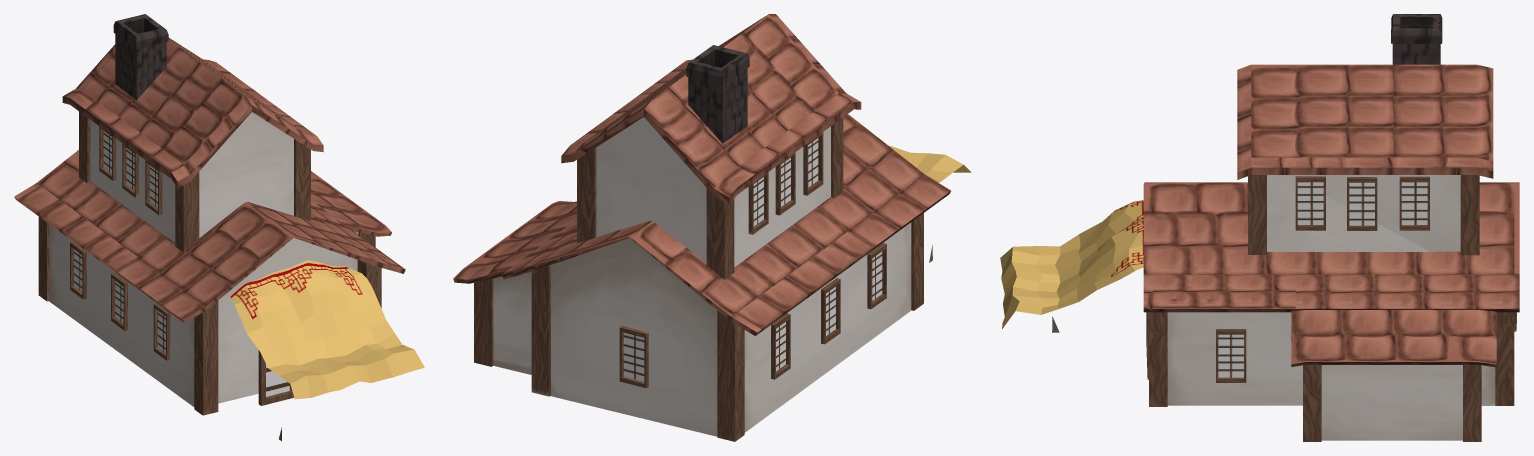
File: Haus_fixed.fbx
The picture shows the model from 3 angles, left to right: view 1: azimuth 30°, elevation 25°; view 2: azimuth 150°, elevation 25°; view 3: azimuth 270°, elevation 25°; orthographic projection. The views are drawn at different scales.
Parts seen in each view (by area): view 1: Cube.013, Cube.001, Cube.023, Cube.004, Cube.002; view 2: Cube.013, Cube.001, Cube.004, Cube.023; view 3: Cube.013, Cube.001, Cube.023, Cube.004.
Part boxes in pixels (left/top/right/bottom): Cube.013: left=14, top=150, right=405, bottom=415; Cube.001: left=62, top=37, right=323, bottom=252; Cube.023: left=230, top=260, right=424, bottom=441; Cube.004: left=113, top=14, right=168, bottom=99; Cube.002: left=258, top=350, right=294, bottom=405; Cube.013: left=453, top=114, right=950, bottom=441; Cube.001: left=561, top=14, right=861, bottom=279; Cube.004: left=686, top=45, right=749, bottom=143; Cube.023: left=888, top=145, right=971, bottom=262; Cube.013: left=1143, top=182, right=1519, bottom=441; Cube.001: left=1237, top=64, right=1493, bottom=255; Cube.023: left=1000, top=200, right=1143, bottom=332; Cube.004: left=1391, top=14, right=1442, bottom=64.
Size of the model in its own units: 751 by 759 by 1105.
